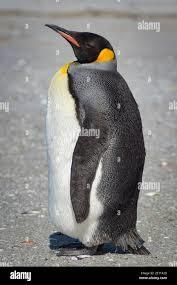king: (35, 11, 154, 269)
